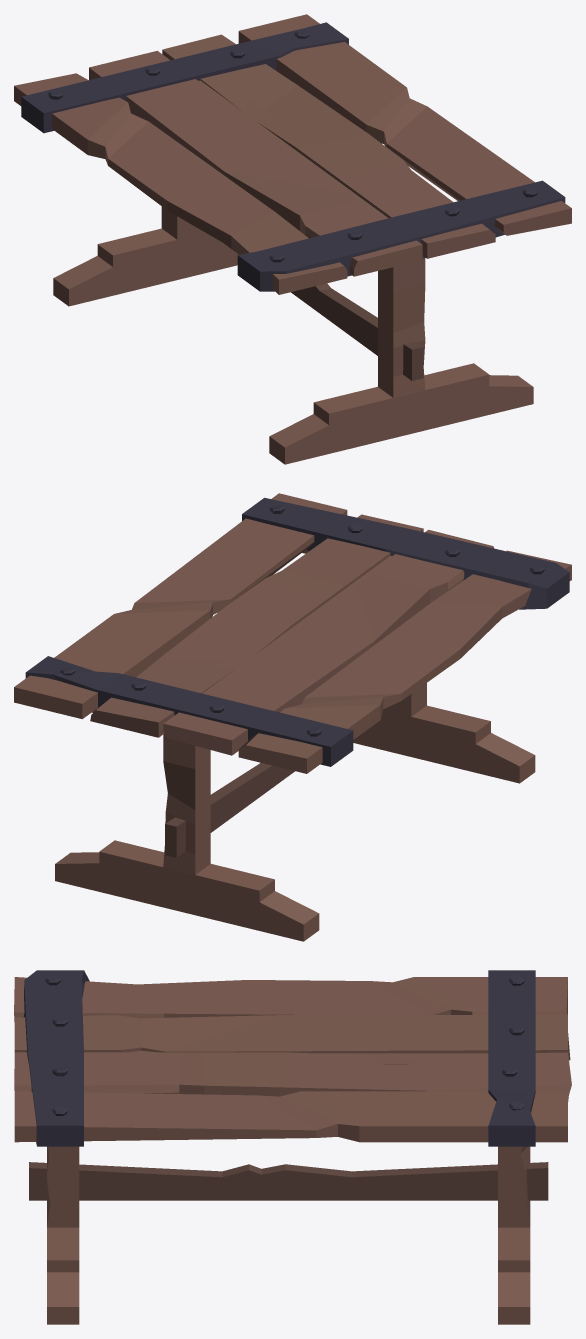
File: table_small.glb
3 views of the same model, one above another, from view 1: azimuth 30°, elevation 25°; view 2: azimuth 150°, elevation 25°; view 3: azimuth 270°, elevation 25° (orthographic). The views are drawn at different scales.
Visible parts, largest first — view 1: Table_Small; view 2: Table_Small; view 3: Table_Small.
Boxes of the visible parts, x1=… form: Table_Small: x1=14, y1=14, x2=571, y2=464; Table_Small: x1=14, y1=493, x2=571, y2=941; Table_Small: x1=14, y1=970, x2=571, y2=1324.
Size of the model in its own units: 1.3 by 0.854 by 1.98.
